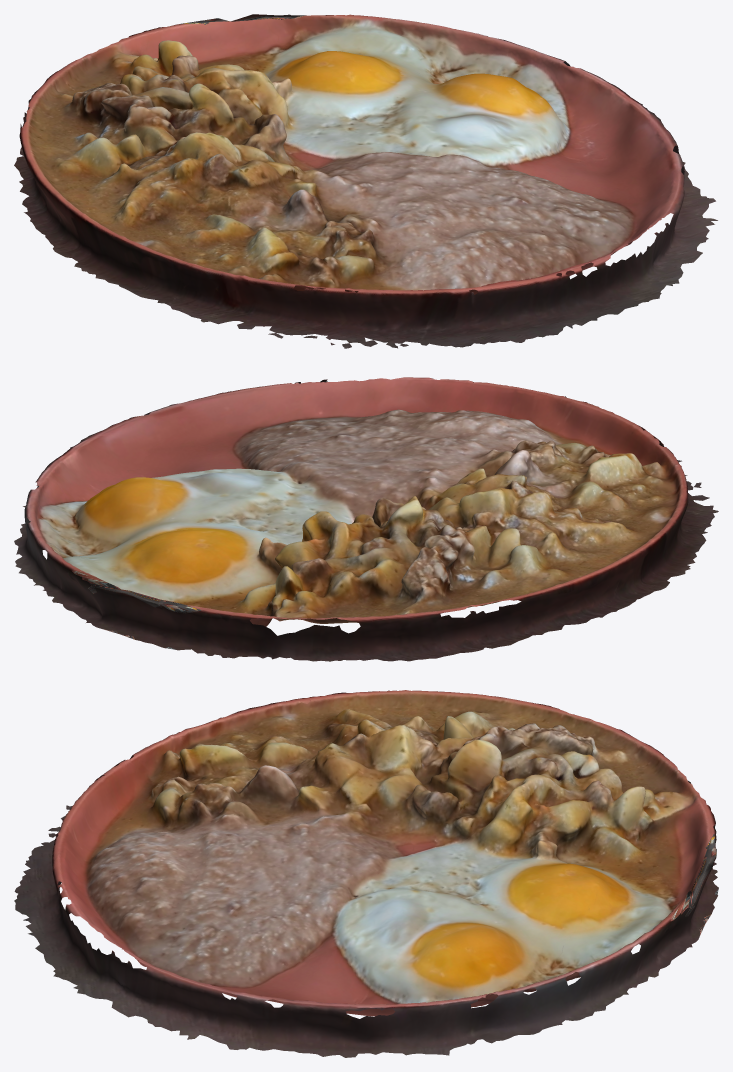
3 views of the same model, one above another, from view 1: azimuth 30°, elevation 25°; view 2: azimuth 150°, elevation 25°; view 3: azimuth 270°, elevation 25° (orthographic).
Visible parts, largest first — view 1: 3DModel; view 2: 3DModel; view 3: 3DModel.
Boxes of the visible parts, x1=… form: 3DModel: x1=14, y1=14, x2=717, y2=348; 3DModel: x1=14, y1=377, x2=718, y2=661; 3DModel: x1=14, y1=690, x2=718, y2=1057.
Bounding box in the file's own units: 0.908 × 0.171 × 0.9094.
Materials: 1 (1 with a texture image).
